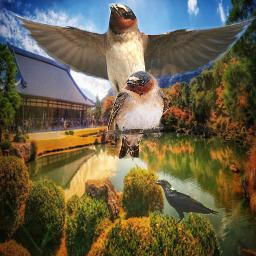Crow: (153, 179, 221, 225)
Swallow: (3, 2, 256, 143), (107, 70, 170, 159)
